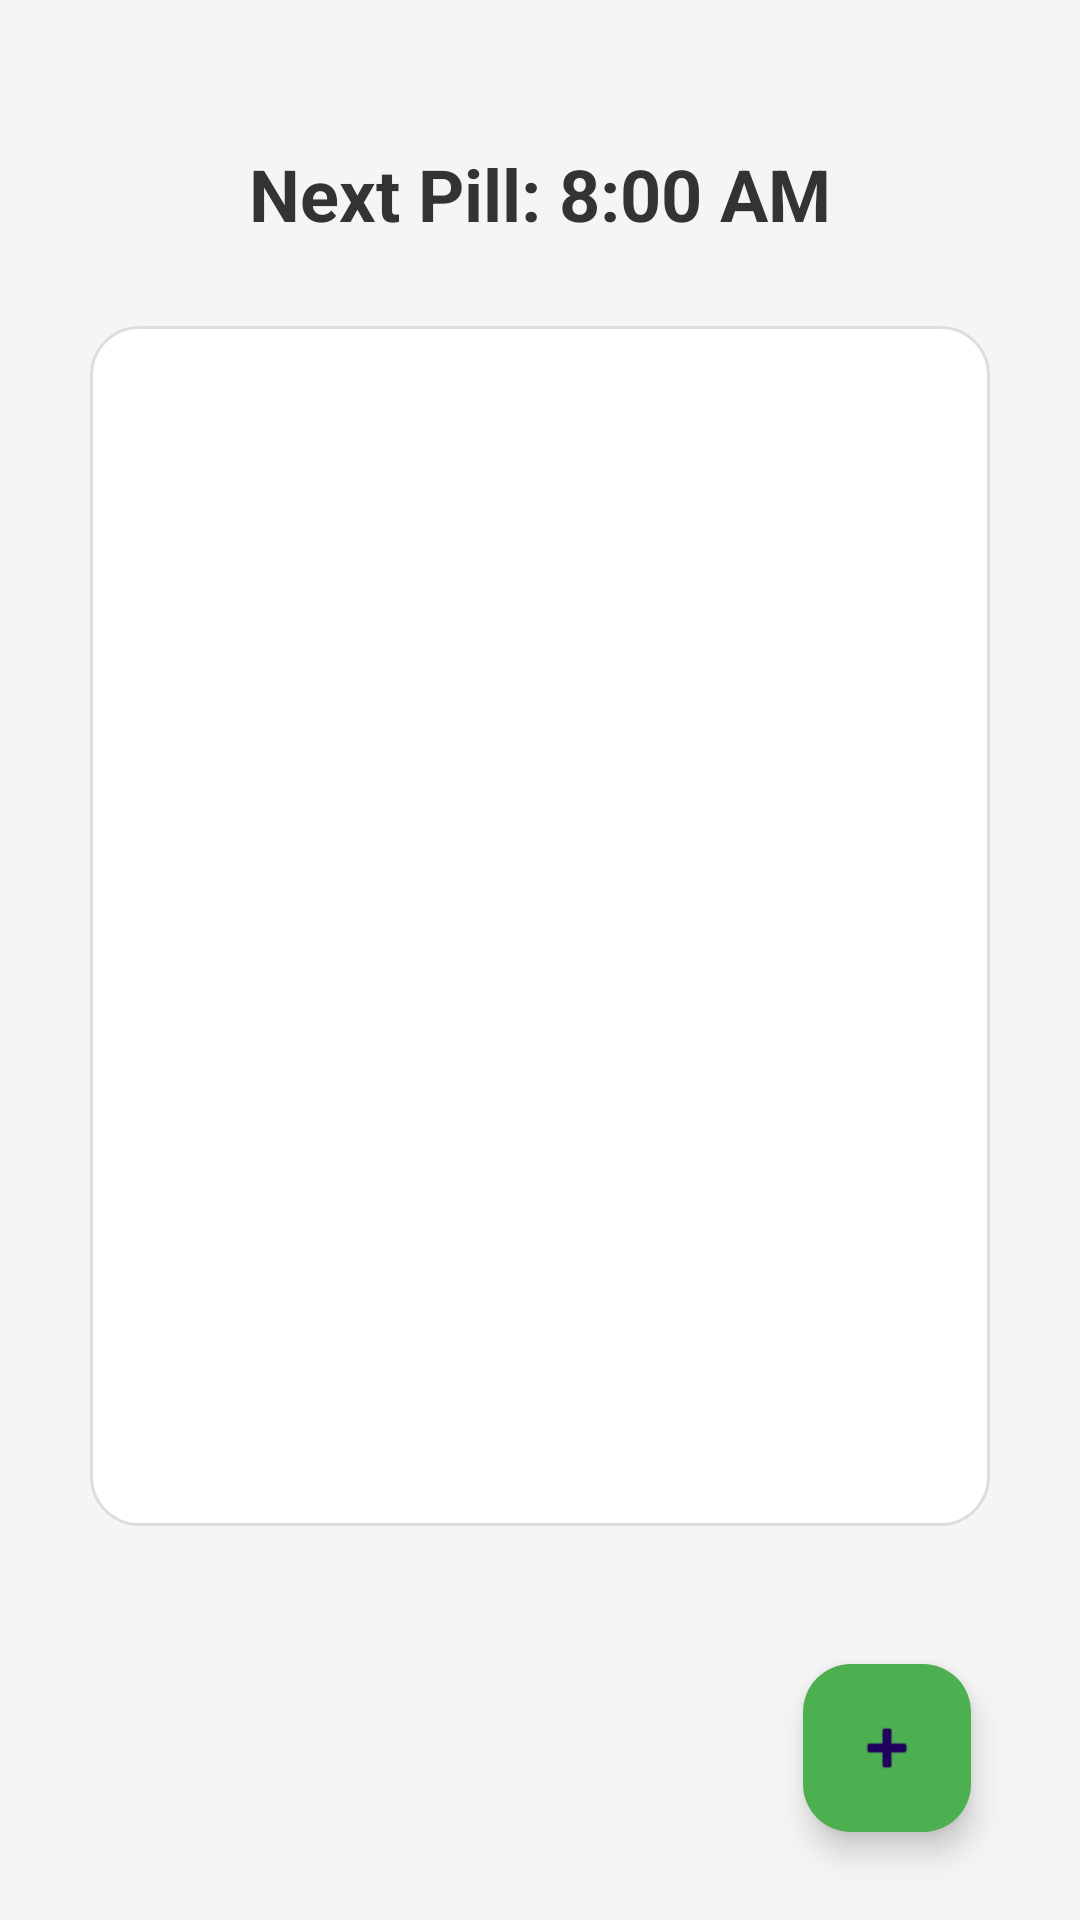

Where icons sit on this 1080px x 1920px app screen, as (x1, y1, x2, y2):
Add Pill: (803, 1664, 971, 1832)
